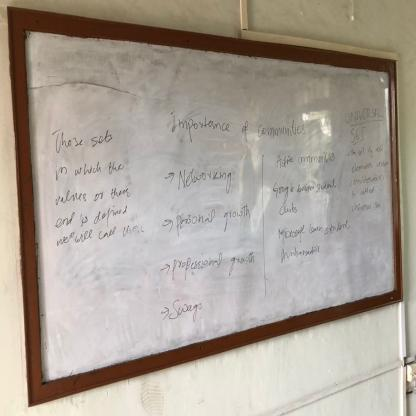Handwritten text: (169, 104, 312, 146), (49, 209, 148, 249), (171, 247, 261, 283), (176, 201, 253, 238), (269, 179, 340, 215), (47, 120, 116, 156), (174, 157, 237, 196), (275, 219, 357, 243), (50, 158, 133, 181), (51, 182, 134, 205), (273, 145, 342, 171), (278, 243, 323, 271), (170, 290, 203, 326), (338, 104, 387, 124), (348, 157, 392, 176), (346, 143, 385, 158), (351, 200, 381, 218), (346, 186, 379, 200), (350, 123, 367, 149), (349, 174, 389, 185)
Whiteboard: (20, 13, 401, 390)
